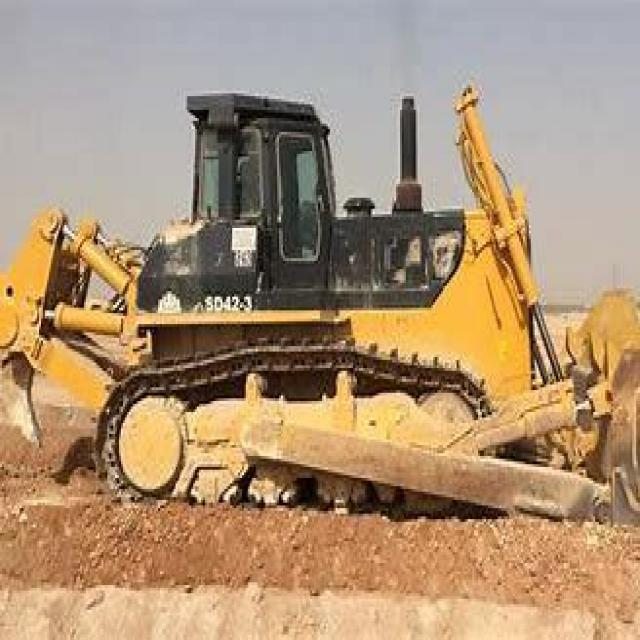Bulldozer: (4, 63, 638, 555)
